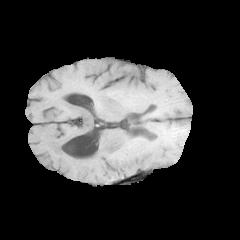glioma: (45, 115, 181, 180)
